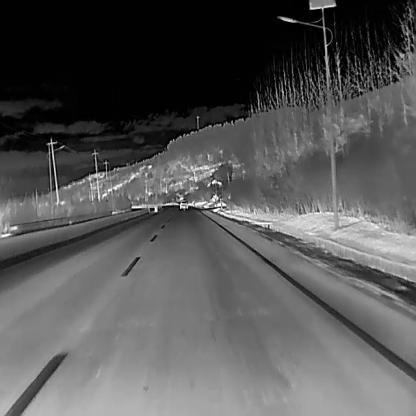car: (179, 198, 187, 209)
